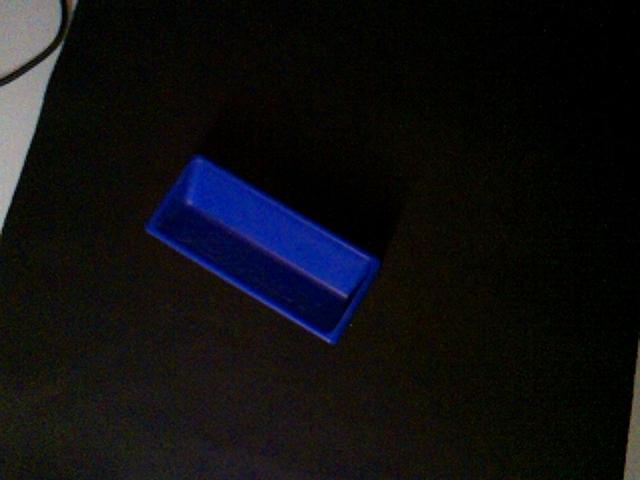blue: (144, 152, 382, 346)
